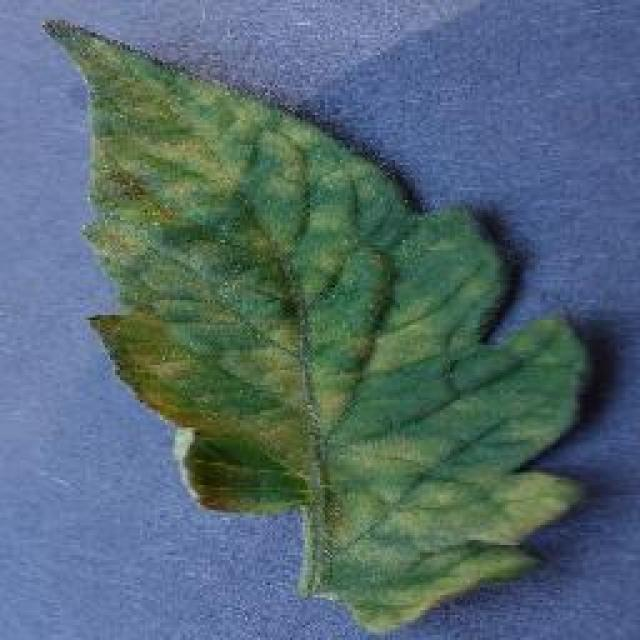Tomato mold leaf: (48, 19, 592, 616)
